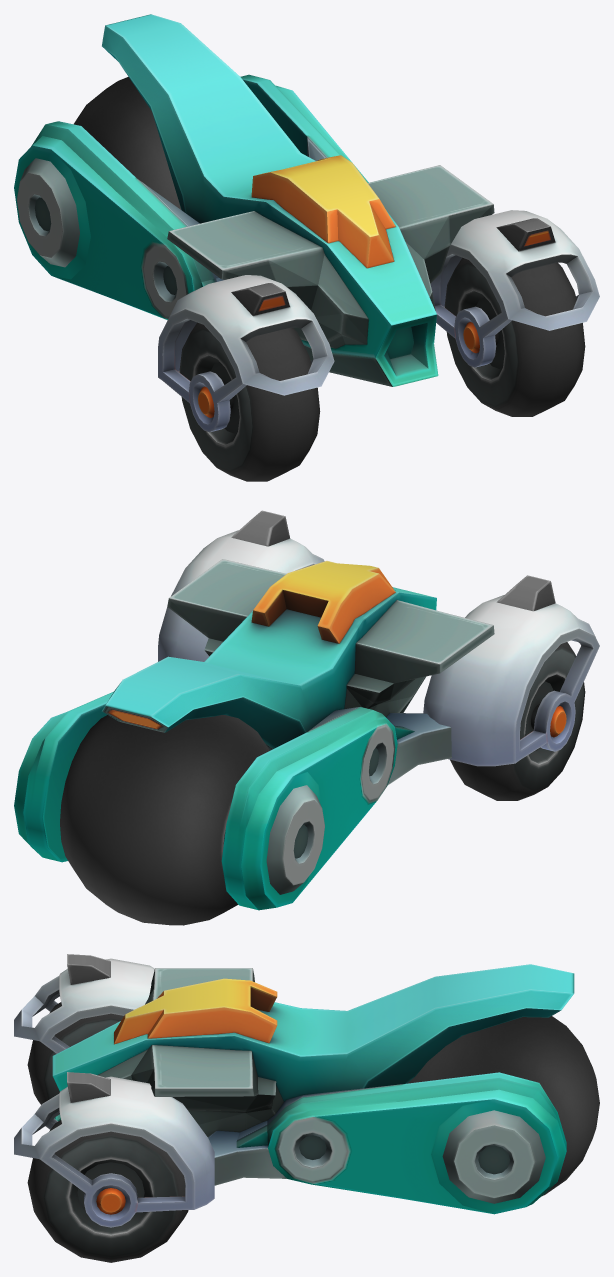
Rendered from body_ch202_a3.fbx.
3 renders of one model, top to bottom at view 1: azimuth 30°, elevation 25°; view 2: azimuth 150°, elevation 25°; view 3: azimuth 270°, elevation 25°, orthographic. The views are drawn at different scales.
Visible parts, largest first — view 1: Cube.333, wheel_rolla.010, wheel_rolla.005, wheel_rolla.007, wheel_rolla.011, Sphere; view 2: Cube.333, Sphere, wheel_rolla.010, wheel_rolla.011, wheel_rolla.007; view 3: Cube.333, wheel_rolla.011, wheel_rolla.005, Sphere, wheel_rolla.010, wheel_rolla.007.
Boxes of the visible parts, x1,y1,x2,y2 form: Cube.333: [14, 14, 494, 386]; wheel_rolla.010: [158, 275, 334, 432]; wheel_rolla.005: [444, 257, 585, 416]; wheel_rolla.007: [179, 322, 320, 481]; wheel_rolla.011: [430, 210, 599, 367]; Sphere: [74, 77, 181, 209]; Cube.333: [14, 559, 494, 910]; Sphere: [60, 715, 269, 925]; wheel_rolla.010: [423, 575, 599, 766]; wheel_rolla.011: [158, 510, 324, 661]; wheel_rolla.007: [450, 642, 585, 800]; Cube.333: [52, 964, 574, 1214]; wheel_rolla.011: [14, 1072, 214, 1227]; wheel_rolla.005: [27, 1120, 188, 1262]; Sphere: [407, 1016, 599, 1196]; wheel_rolla.010: [14, 954, 154, 1053]; wheel_rolla.007: [27, 1002, 123, 1104].
Size of the model in its own units: 175 by 114 by 273.
